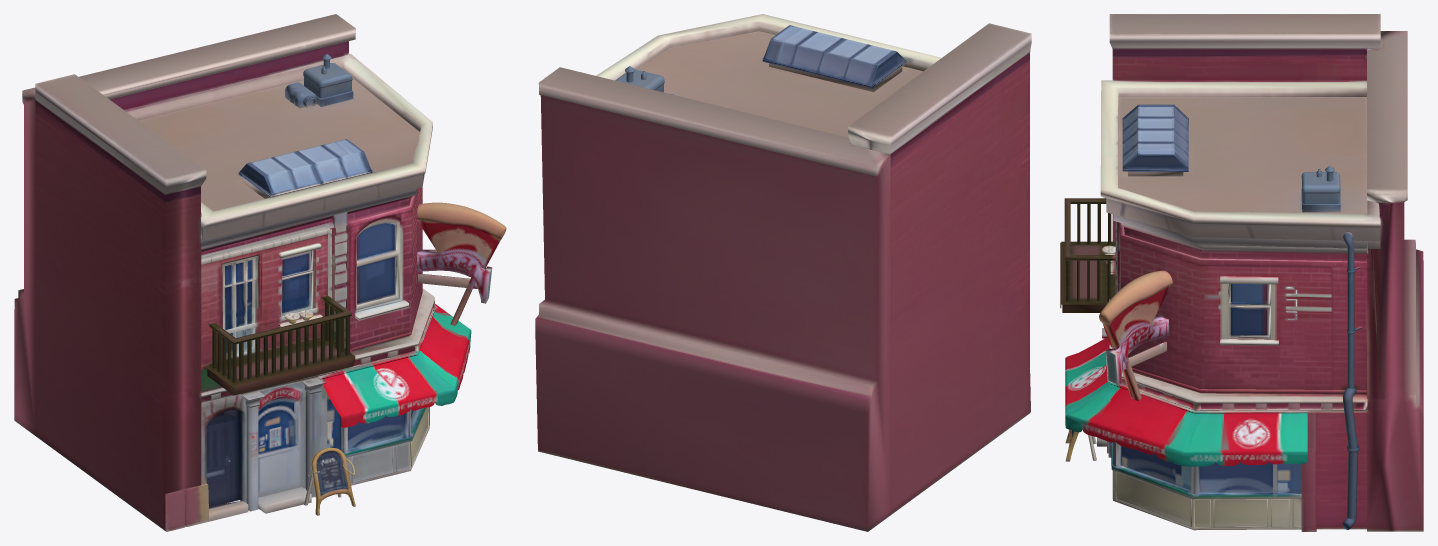
The model's file is Pizzeria.obj.
3 renders of one model, left to right at view 1: azimuth 30°, elevation 25°; view 2: azimuth 150°, elevation 25°; view 3: azimuth 270°, elevation 25°, orthographic. The views are drawn at different scales.
Visible parts, largest first — view 1: corner+restaurant+building+3d+model; view 2: corner+restaurant+building+3d+model; view 3: corner+restaurant+building+3d+model.
Boxes of the visible parts, bbox=[...] form: corner+restaurant+building+3d+model: bbox=[14, 14, 506, 531]; corner+restaurant+building+3d+model: bbox=[535, 14, 1031, 531]; corner+restaurant+building+3d+model: bbox=[1060, 14, 1423, 531].
Bounding box in the file's own units: 0.8052 × 0.7969 × 0.7207.
